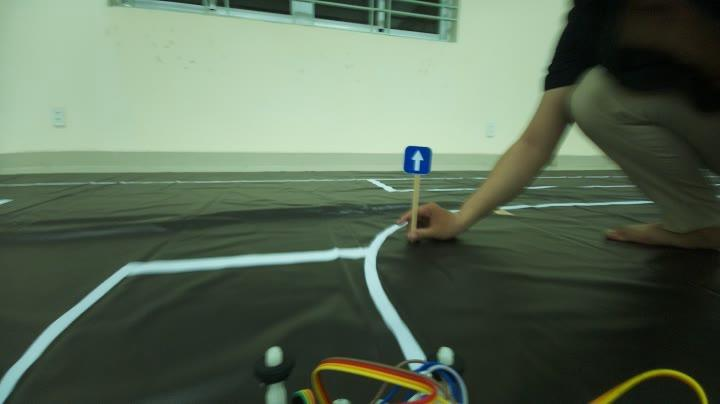onewayroad: (393, 138, 438, 177)
